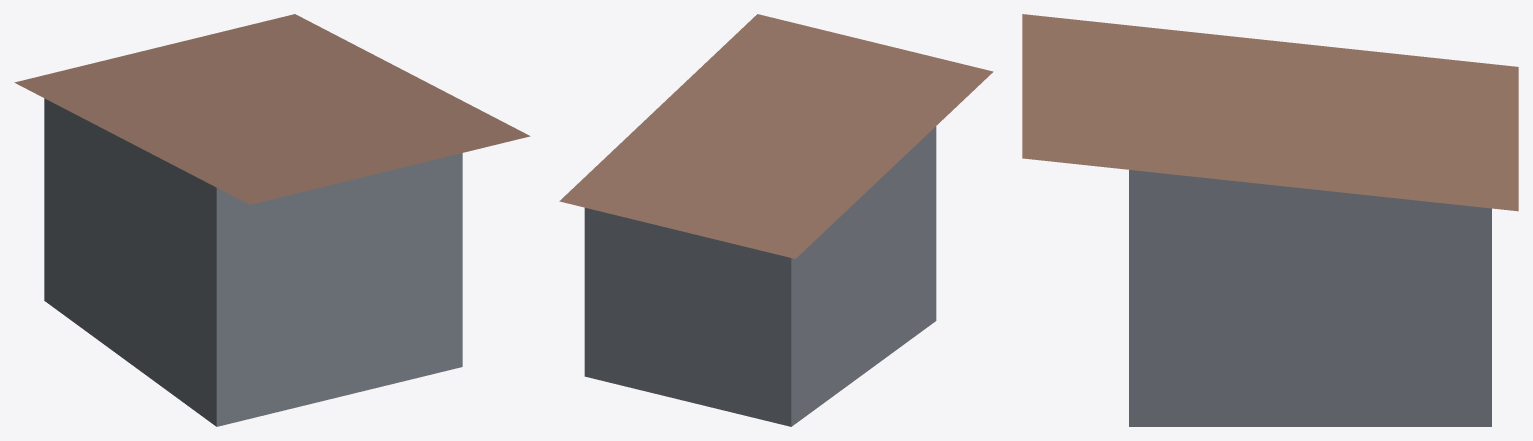
File: fill3_far.fbx
3 renders of one model, left to right at view 1: azimuth 30°, elevation 25°; view 2: azimuth 150°, elevation 25°; view 3: azimuth 270°, elevation 25°, orthographic. The views are drawn at different scales.
Parts seen in each view (by area): view 1: a2014/0/fill3_far; view 2: a2014/0/fill3_far; view 3: a2014/0/fill3_far.
Part boxes in pixels (x1,y1,x2,y2): a2014/0/fill3_far: (14,14,530,426); a2014/0/fill3_far: (559,14,993,426); a2014/0/fill3_far: (1022,14,1518,426).
Bounding box in the file's own units: 3.2 × 2.87 × 4.65.
